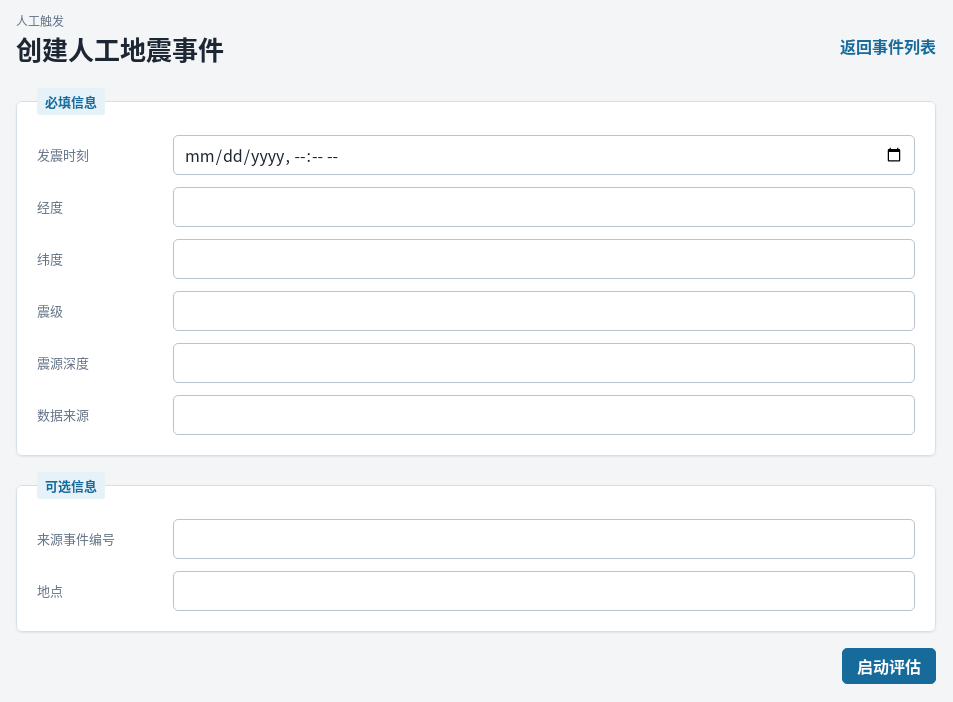
Test case: submits all required manual event fields
This screenshot has width=953, height=702.
In the field labelled "发震时刻": (544, 154) top-left (173, 134), bottom-right (915, 174), type "2026-09-17T10:30"
In the number field labelled "经度": (544, 206) top-left (173, 186), bottom-right (915, 226), type "121.54"
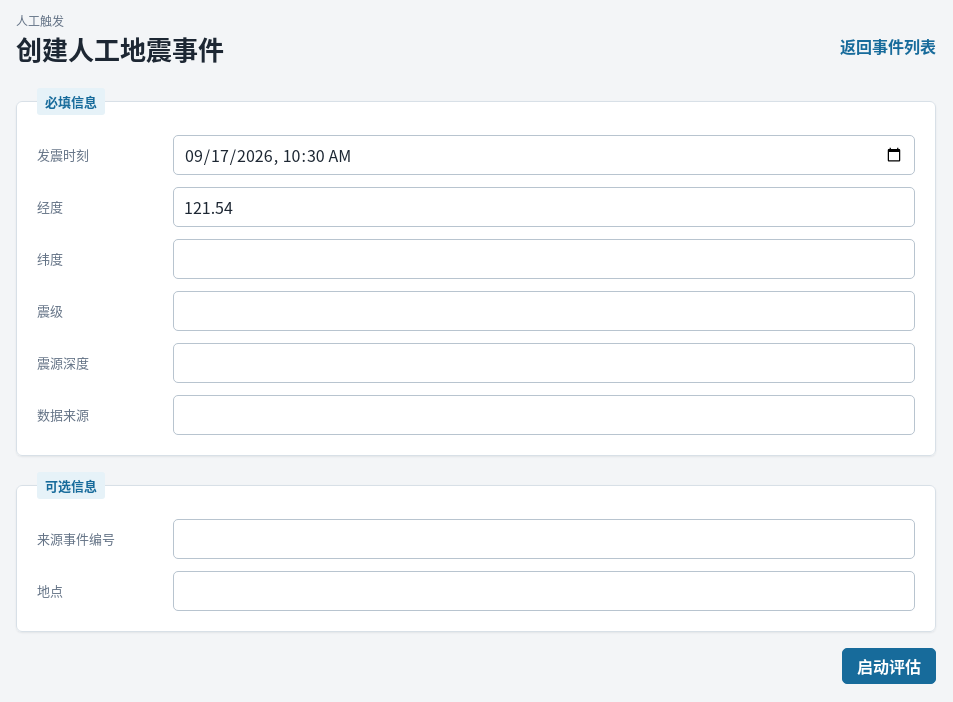
In the number field labelled "纬度": (544, 258) top-left (173, 238), bottom-right (915, 278), type "31.22"
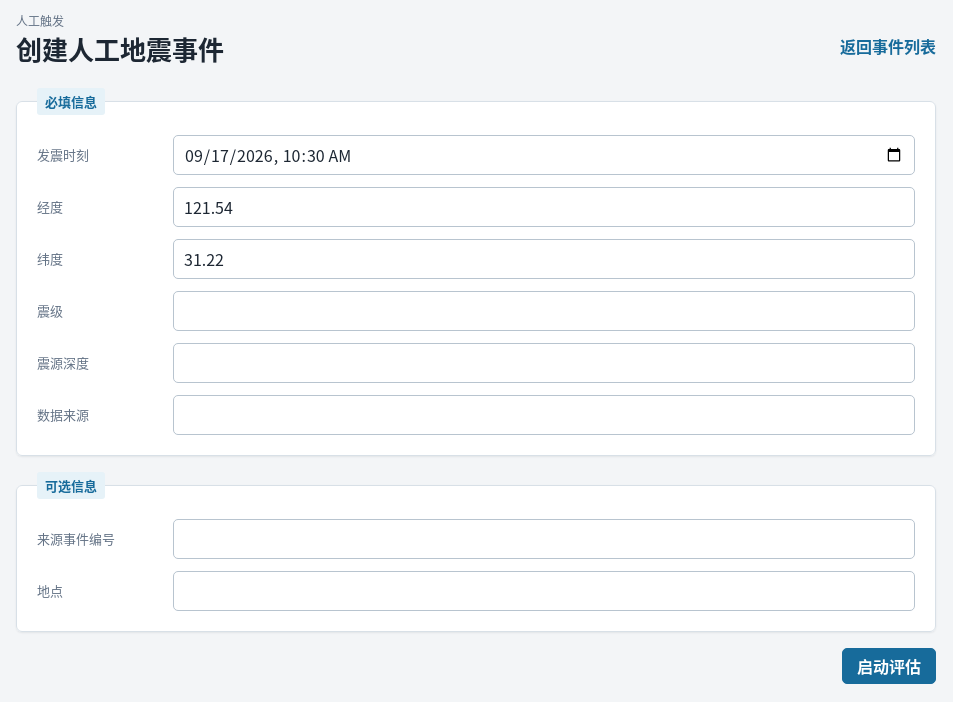
In the number field labelled "震级": (544, 310) top-left (173, 290), bottom-right (915, 330), type "3.2"
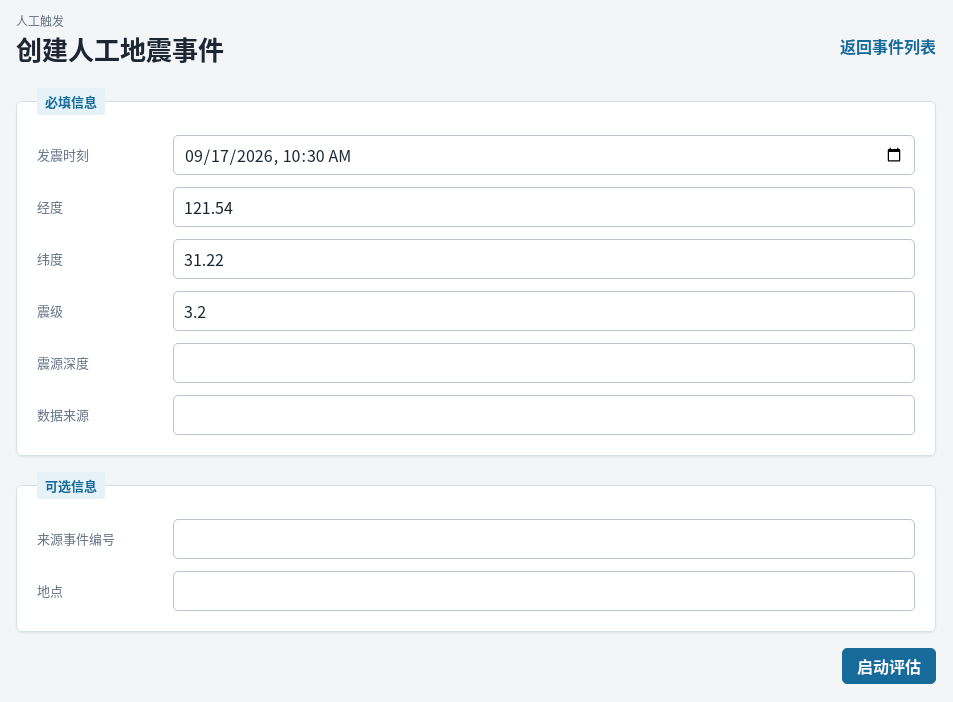
In the number field labelled "震源深度": (544, 362) top-left (173, 342), bottom-right (915, 382), type "8"
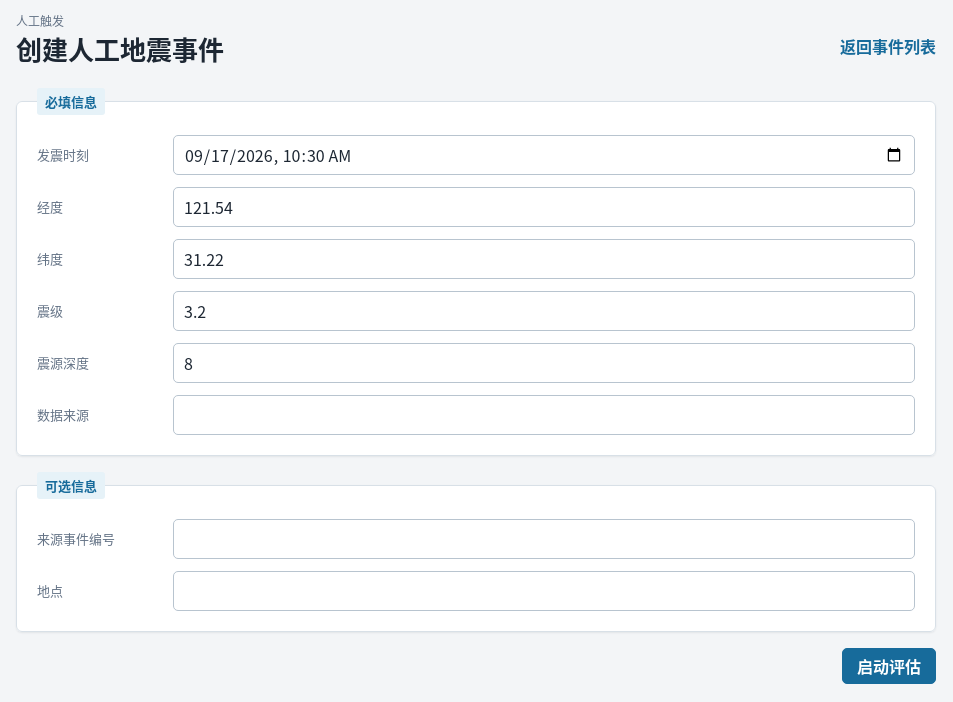
In the field labelled "数据来源": (544, 414) top-left (173, 394), bottom-right (915, 434), type "shanghai-network"
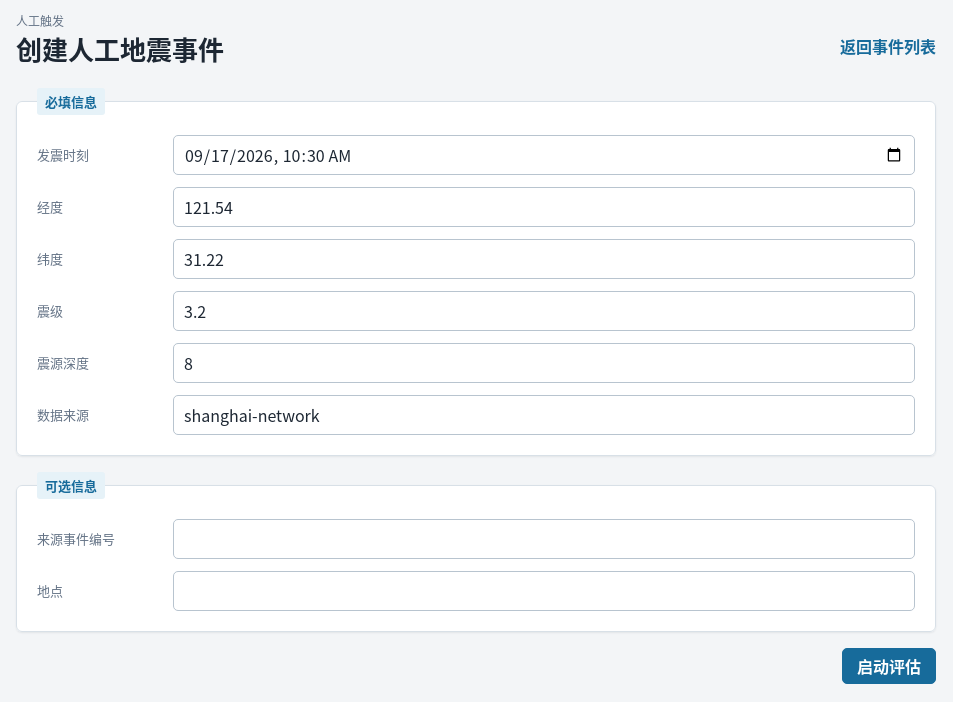
Click the button "启动评估": (889, 666) top-left (842, 648), bottom-right (936, 684)
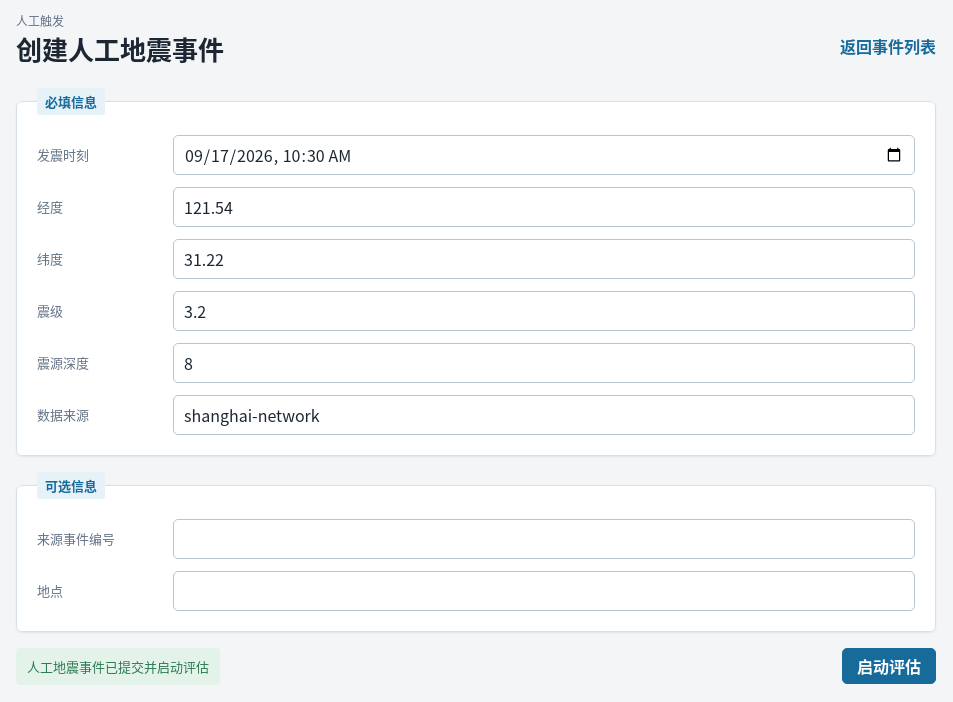
expect the text "人工地震事件已提交并启动评估" is shown: met, box top-left (16, 648), bottom-right (220, 684)
